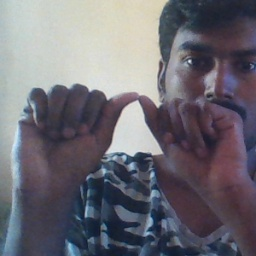A: (54, 75, 212, 188)
